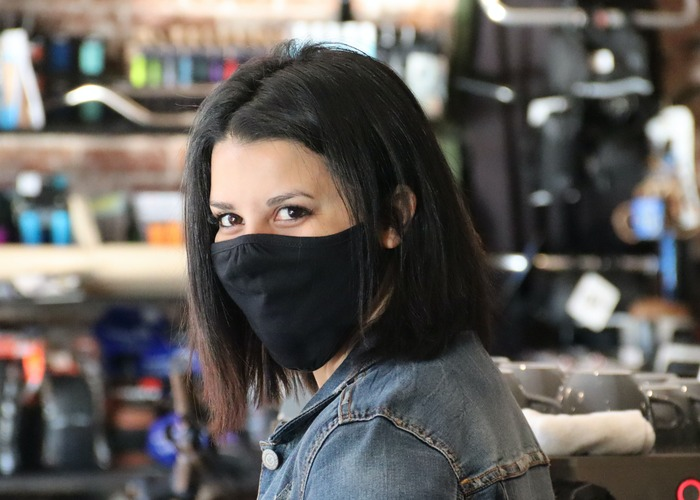with_mask: (208, 175, 373, 341)
